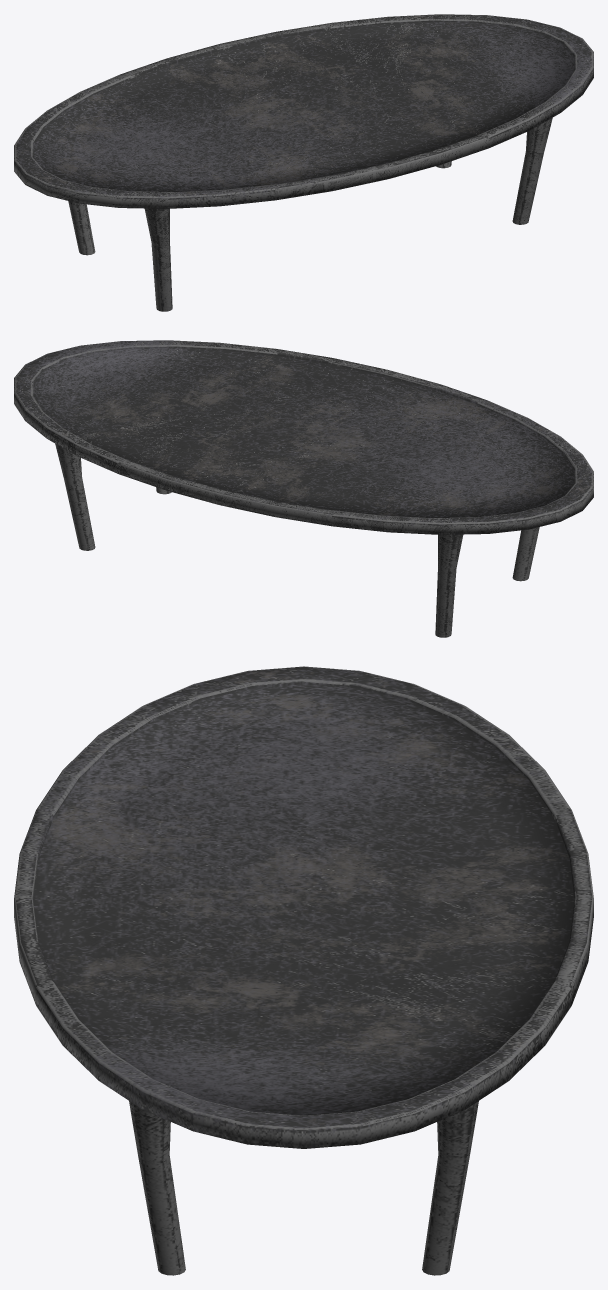
3 views of the same model, one above another, from view 1: azimuth 30°, elevation 25°; view 2: azimuth 150°, elevation 25°; view 3: azimuth 270°, elevation 25° (orthographic). The views are drawn at different scales.
Visible parts, largest first — view 1: Cylinder; view 2: Cylinder; view 3: Cylinder.
Boxes of the visible parts, x1,y1,x2,y2 form: Cylinder: (14, 14, 593, 311); Cylinder: (14, 340, 593, 637); Cylinder: (14, 666, 593, 1275).
Bounding box in the file's own units: 200 × 44.89 × 105.
Materials: 1 (1 with a texture image).
